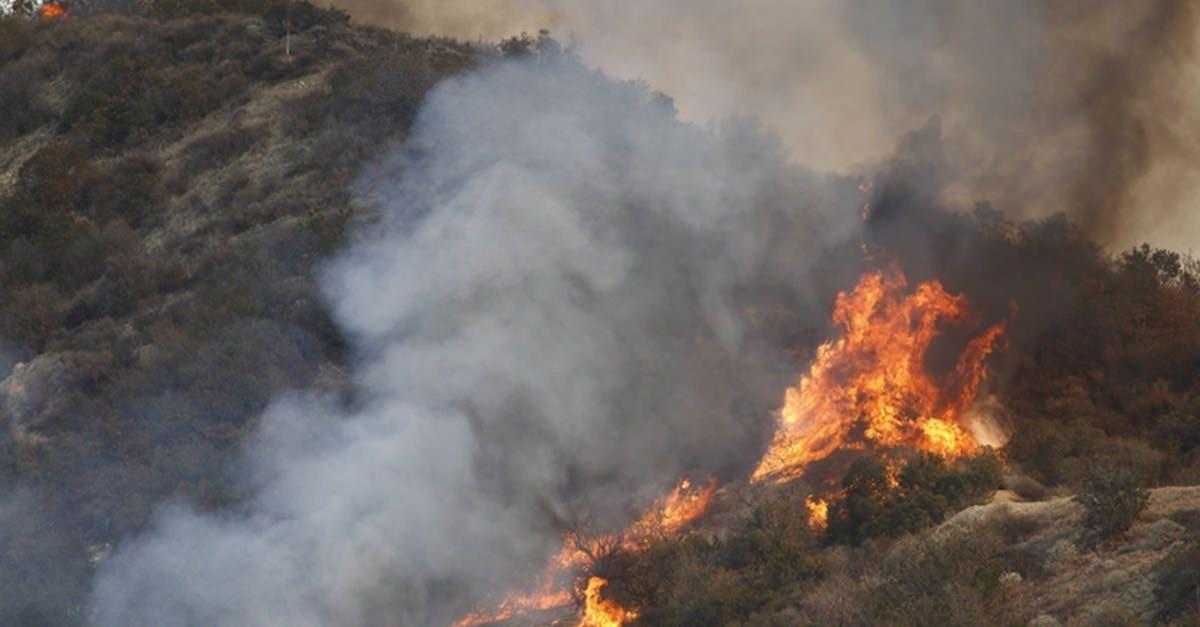fire: (765, 253, 1038, 500), (470, 509, 694, 624)
smoke: (331, 84, 755, 493), (837, 0, 1184, 272)
